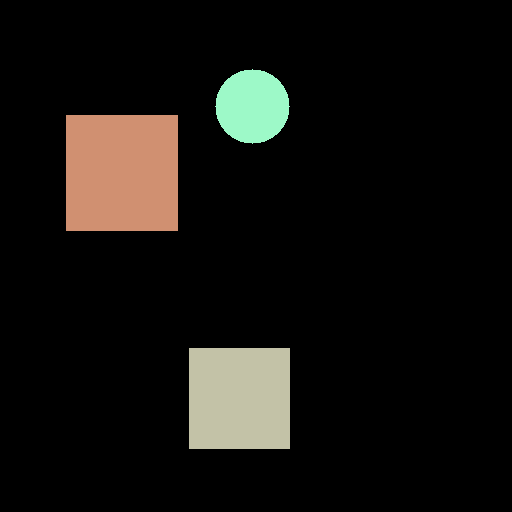circle: (215, 69, 289, 143)
square: (66, 115, 177, 230), (189, 348, 289, 448)
